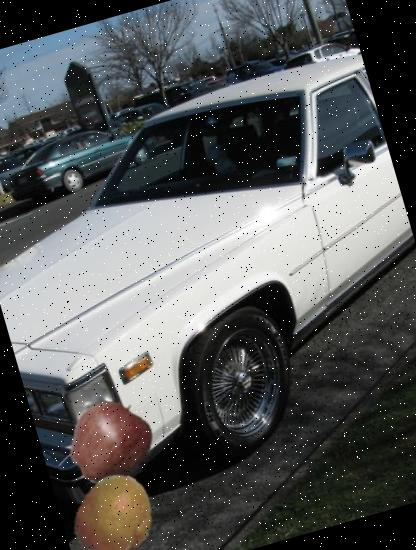Apple: (58, 390, 164, 496)
Mandarine: (63, 463, 169, 550)
